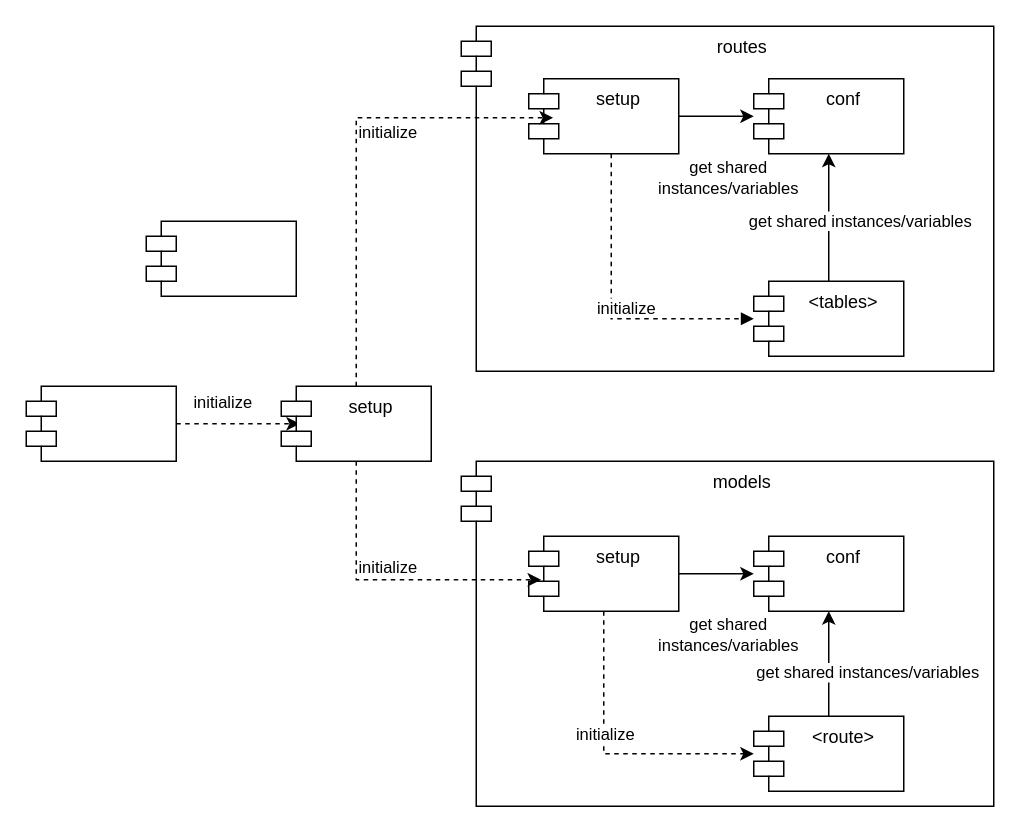
Image size: 1020x833. Some labels were removed from this diagram. The shapes that lost their labels are listed below. From the top down, each one's centre as x and y in pixels, then its label:
At (x=220, y=258): "app".
At (x=100, y=423): "start".
